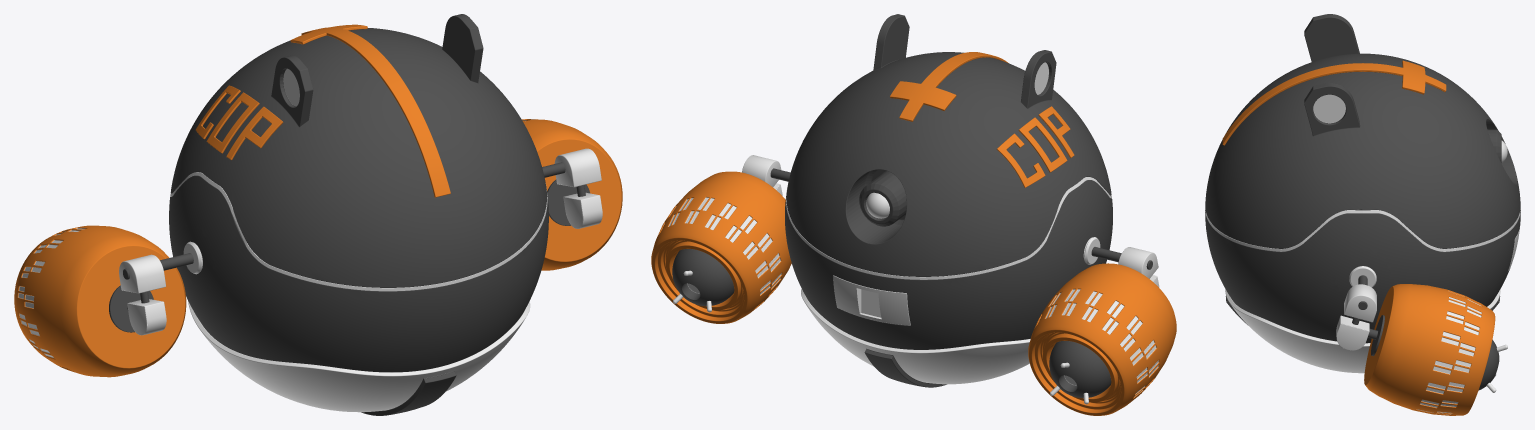
The model's file is Chubby_robot.fbx.
3 renders of one model, left to right at view 1: azimuth 30°, elevation 25°; view 2: azimuth 150°, elevation 25°; view 3: azimuth 270°, elevation 25°, orthographic. The views are drawn at different scales.
Visible parts, largest first — view 1: Base, Cylinder.007, Base.002, Dyblikat_Yshi, Dyblikat_Yshi_001, Cube.001, Dyblikat_Yshi_002, Cube.002, Cylinder.006, Dyblikat, Cylinder.004; view 2: Base, Cylinder.007, Base.002, Cube.003, Dyblikat_Yshi, Base.001, Dyblikat_Yshi_001, Dyblikat_Yshi_002, Cube.001, Dyblikat, Cylinder.004, Cube.004; view 3: Base, Cylinder.007, Dyblikat_Yshi, Base.002, Dyblikat_Yshi_001, Dyblikat, Cube.001, Cube.002, Cube.003, Cylinder.003, Cylinder.006.
Boxes of the visible parts, box(x1,y1,x2,y2) form: Base: box(169, 28, 548, 372); Cylinder.007: box(14, 119, 622, 377); Base.002: box(188, 301, 530, 415); Dyblikat_Yshi: box(170, 14, 484, 292); Dyblikat_Yshi_001: box(290, 24, 450, 197); Cube.001: box(119, 148, 601, 293); Dyblikat_Yshi_002: box(195, 85, 283, 160); Cube.002: box(127, 192, 602, 335); Cylinder.006: box(109, 179, 589, 332); Dyblikat: box(170, 172, 547, 291); Cylinder.004: box(123, 162, 565, 279); Base: box(785, 52, 1112, 349); Cylinder.007: box(651, 171, 1176, 415); Base.002: box(801, 289, 1030, 387); Cube.003: box(672, 249, 1111, 398); Dyblikat_Yshi: box(870, 14, 1104, 275); Base.001: box(833, 275, 910, 325); Dyblikat_Yshi_001: box(890, 52, 1008, 121); Dyblikat_Yshi_002: box(996, 106, 1074, 187); Cube.001: box(742, 155, 1158, 278); Dyblikat: box(786, 177, 1111, 279); Cylinder.004: box(770, 168, 1152, 269); Cube.004: box(866, 192, 889, 218); Base: box(1205, 53, 1520, 343); Cylinder.007: box(1364, 284, 1495, 415); Dyblikat_Yshi: box(1304, 14, 1394, 303); Base.002: box(1225, 289, 1500, 373); Dyblikat_Yshi_001: box(1222, 60, 1446, 145); Dyblikat: box(1205, 209, 1520, 251); Cube.001: box(1344, 284, 1376, 322); Cube.002: box(1336, 315, 1369, 350); Cube.003: box(1478, 340, 1499, 390); Cylinder.003: box(1349, 266, 1376, 287); Cylinder.006: box(1367, 315, 1384, 356).
Bounding box in the file's own units: 509 × 322 × 295.
